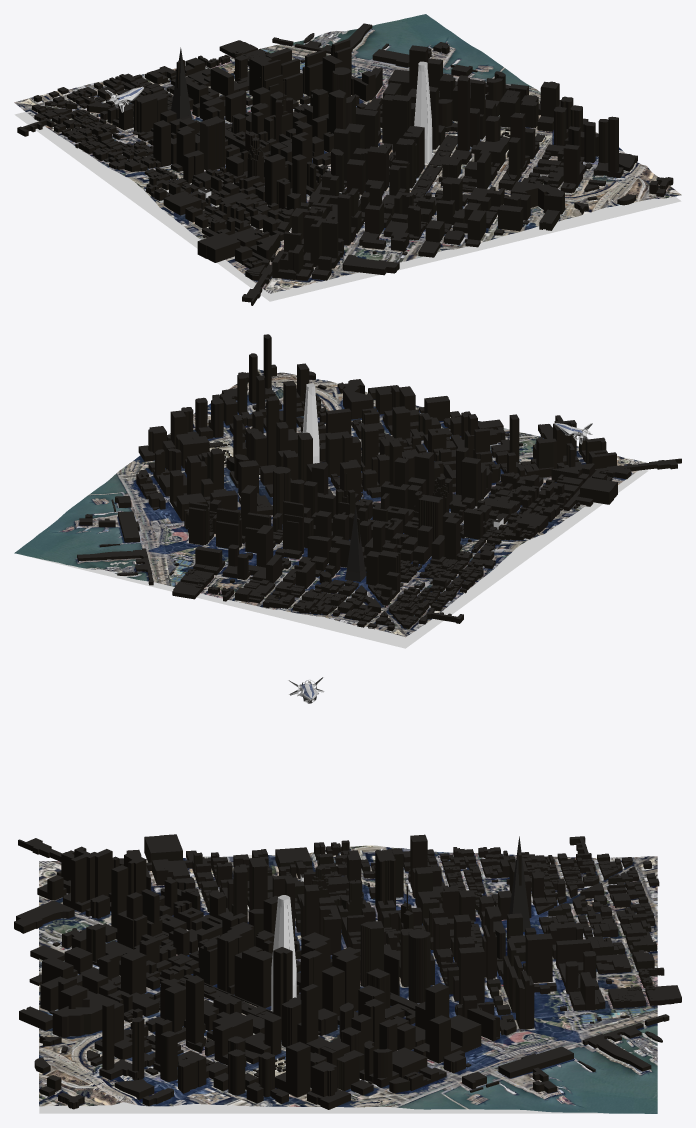
Rendered from cameraparenttry1.gltf.
The picture shows the model from 3 angles, top to bottom: view 1: azimuth 30°, elevation 25°; view 2: azimuth 150°, elevation 25°; view 3: azimuth 270°, elevation 25°; orthographic projection. The views are drawn at different scales.
Parts seen in each view (by area): view 1: map_15.osm_buildings, Terrain, Terrain_envelope; view 2: map_15.osm_buildings, Terrain, Terrain_envelope; view 3: map_15.osm_buildings, Terrain, Terrain_envelope.
Part boxes in pixels (left/top/right/bottom): map_15.osm_buildings: left=17, top=23, right=673, bottom=305; Terrain: left=14, top=14, right=681, bottom=293; Terrain_envelope: left=14, top=112, right=681, bottom=301; map_15.osm_buildings: left=77, top=334, right=681, bottom=631; Terrain: left=14, top=369, right=646, bottom=637; Terrain_envelope: left=18, top=470, right=648, bottom=648; map_15.osm_buildings: left=14, top=834, right=681, bottom=1109; Terrain: left=39, top=845, right=657, bottom=1113; Terrain_envelope: left=39, top=1102, right=608, bottom=1113.
Size of what is drawn, in the model's own units: 1662 by 467 by 1703.
Materials: 10 (2 with a texture image).
